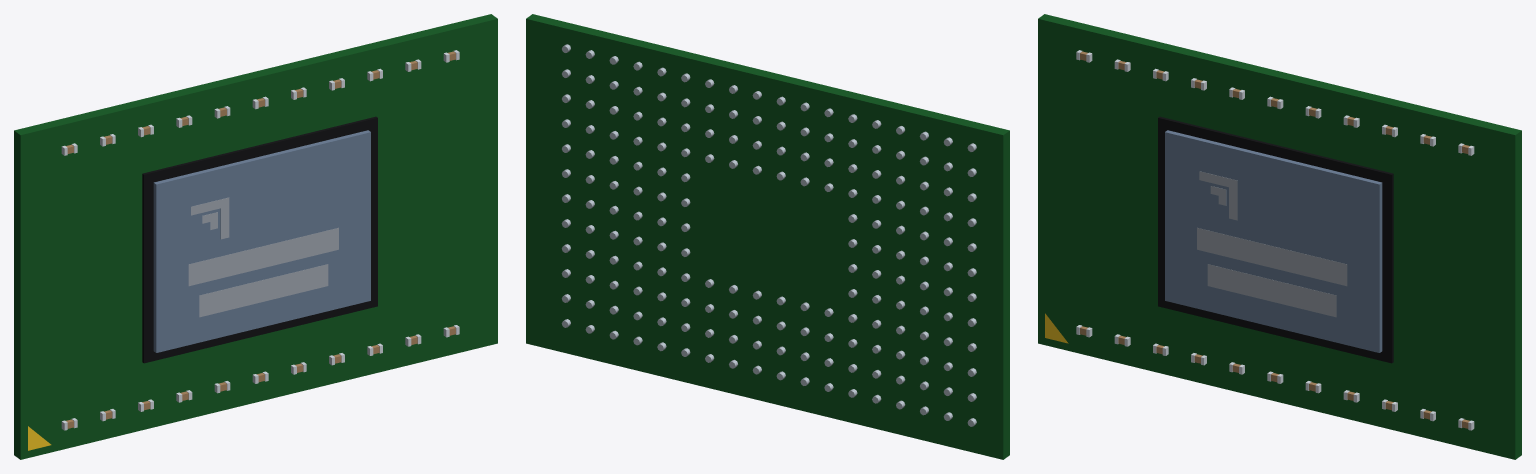
File: CPU_AMD_RYZEN_AI9_HX370_LAPTOP_BGA.obj
3 views of the same model, side by side, from view 1: azimuth 30°, elevation 25°; view 2: azimuth 150°, elevation 25°; view 3: azimuth 330°, elevation 25° (orthographic).
Bounding box in the file's own units: 40 × 26 × 2.02.
